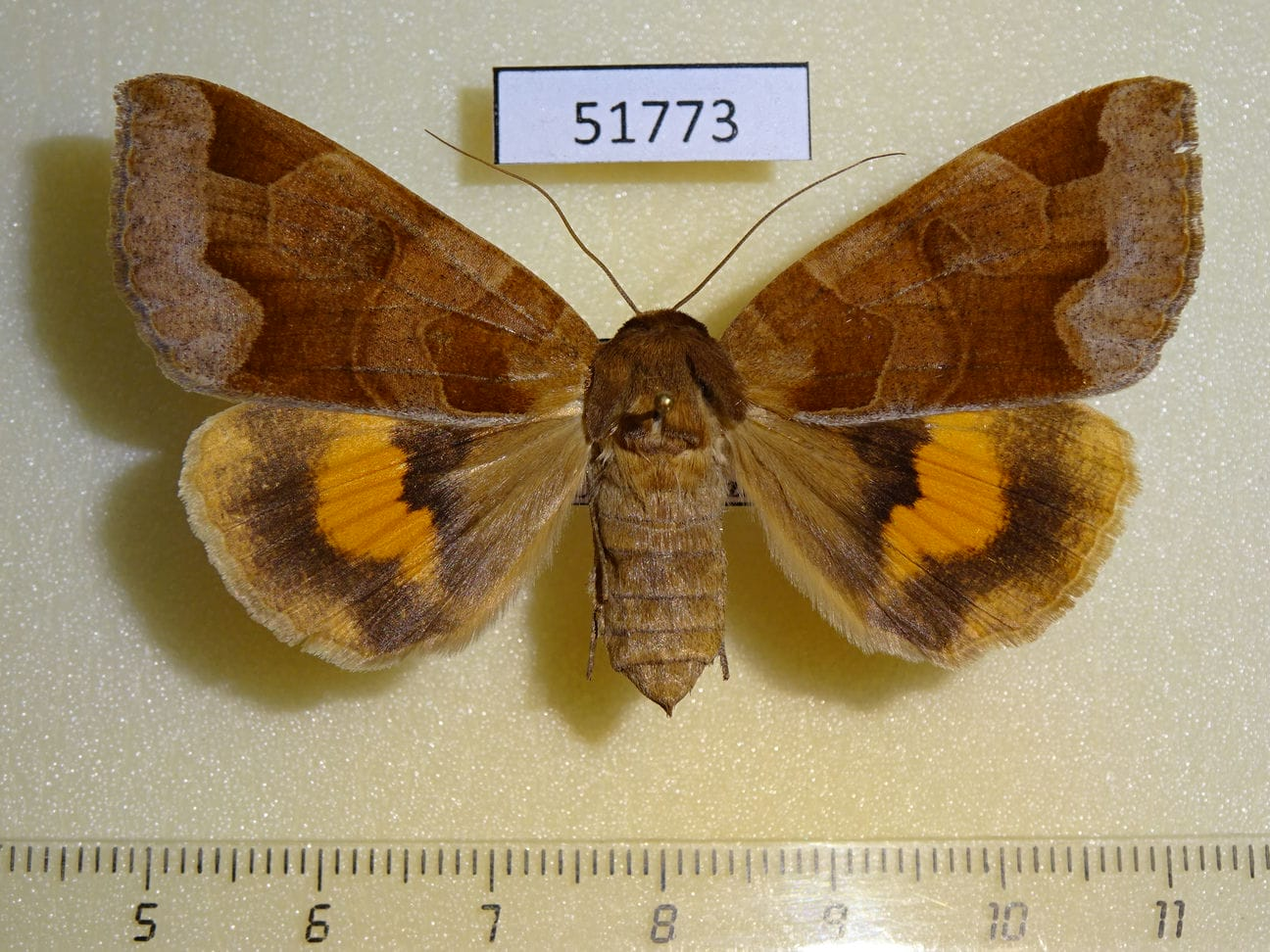Noctuidae: (107, 76, 1206, 717)
